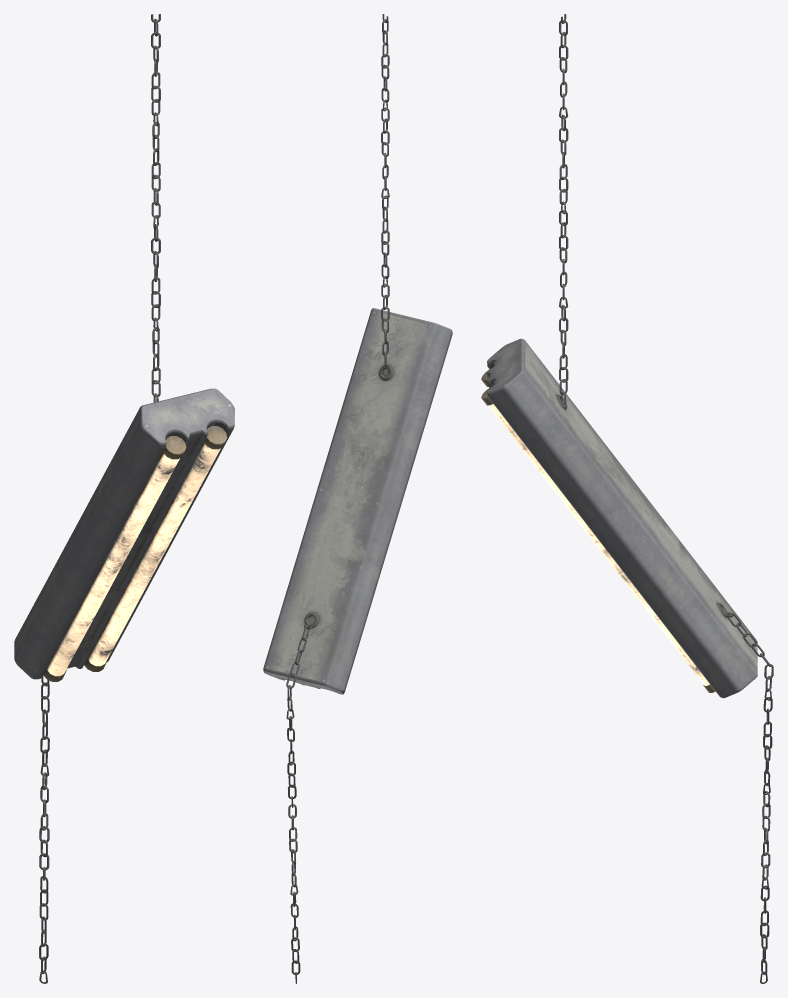
The model's file is SM_Fluorescent_Light02.glb.
3 renders of one model, left to right at view 1: azimuth 30°, elevation 25°; view 2: azimuth 150°, elevation 25°; view 3: azimuth 270°, elevation 25°, orthographic. The views are drawn at different scales.
Visible parts, largest first — view 1: SM_Fluorescent_Light02; view 2: SM_Fluorescent_Light02; view 3: SM_Fluorescent_Light02.
Part boxes in pixels (x1,y1,x2,y2): SM_Fluorescent_Light02: [14, 14, 234, 983]; SM_Fluorescent_Light02: [263, 14, 452, 983]; SM_Fluorescent_Light02: [481, 14, 773, 983].
Bounding box in the file's own units: 0.2948 × 3.16 × 0.8644.
1 material, 1 textured.
